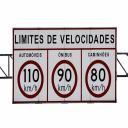speed_limit_110: (17, 60, 45, 99)
